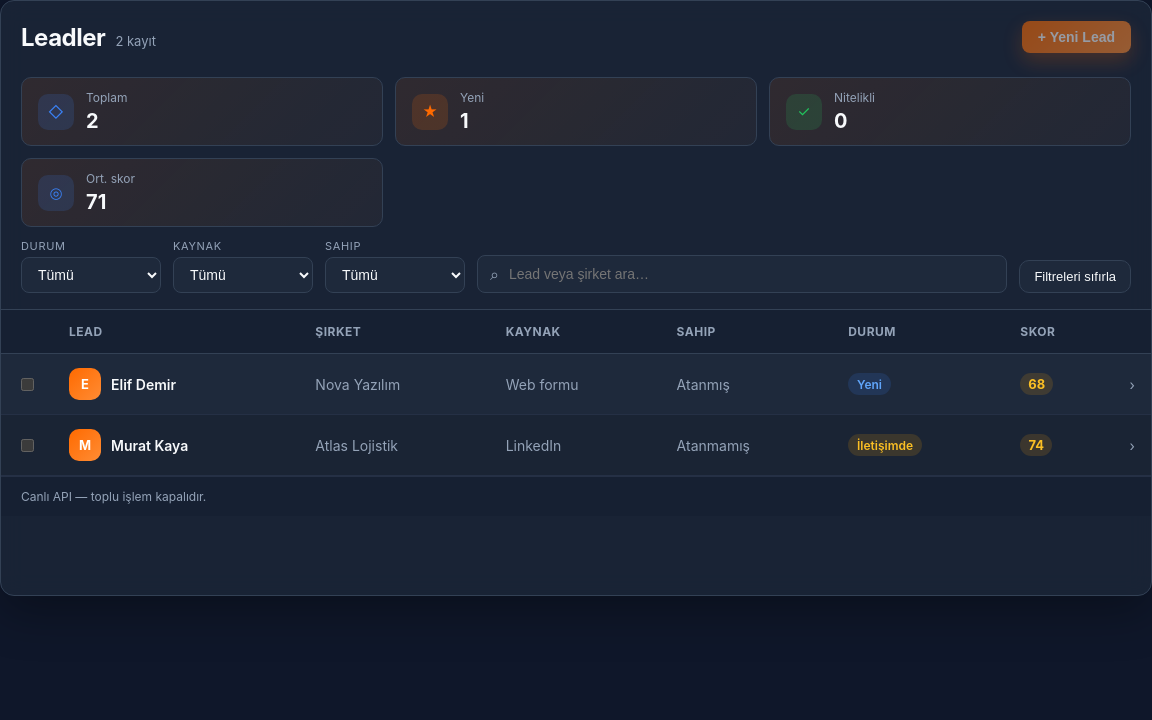
it: LeadListView › filters leads by search query
The width and height of the screenshot is (1152, 720).
Expected: the text "Elif Demir" is shown, [111, 376, 176, 392]
In the search field named "Lead ara": coordinates (751, 274) [507, 265, 994, 283], type "Atlas"
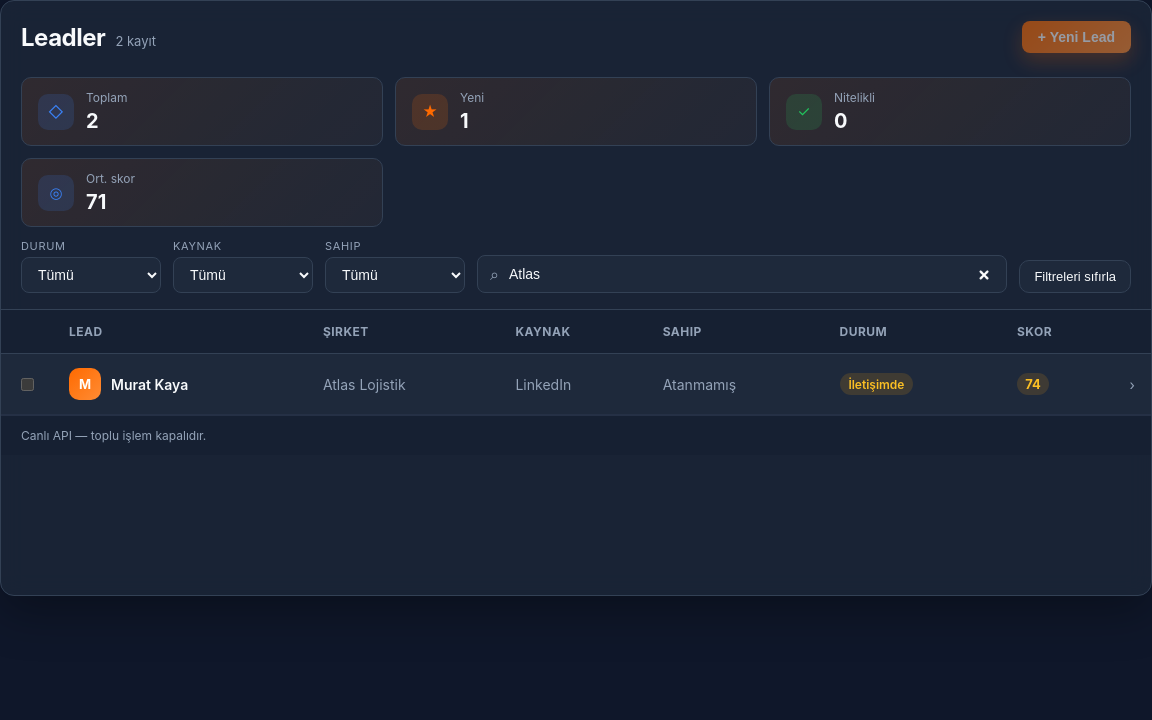
Expected: the text "Murat Kaya" is shown, [111, 376, 188, 392]
Expected: the text "Elif Demir" is gone
